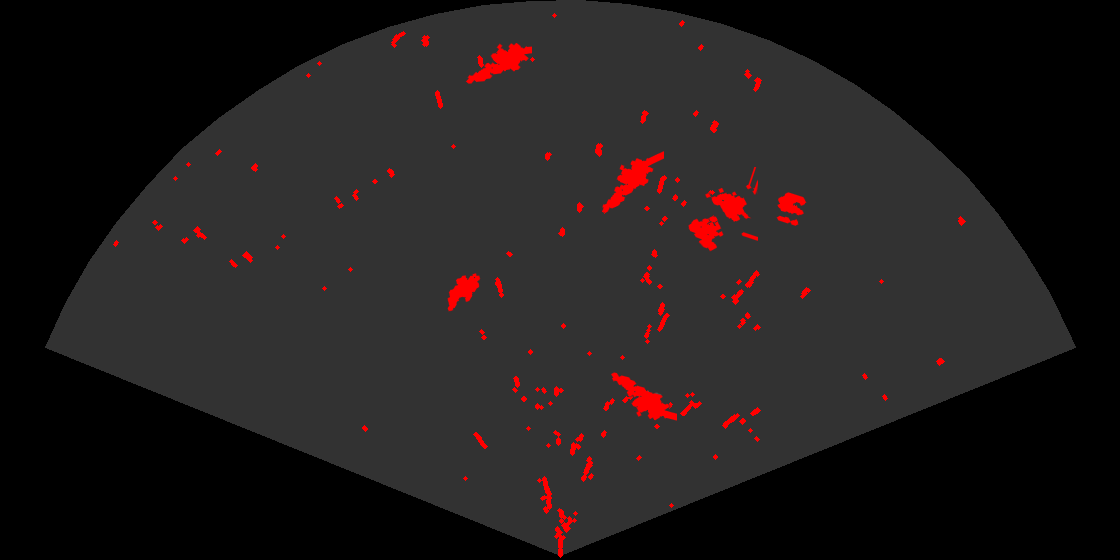AUV: (446, 272, 482, 313)
ball: (775, 191, 808, 227)
cage: (687, 167, 758, 253)
frogman: (601, 150, 664, 214), (609, 371, 677, 422), (464, 41, 532, 85)
